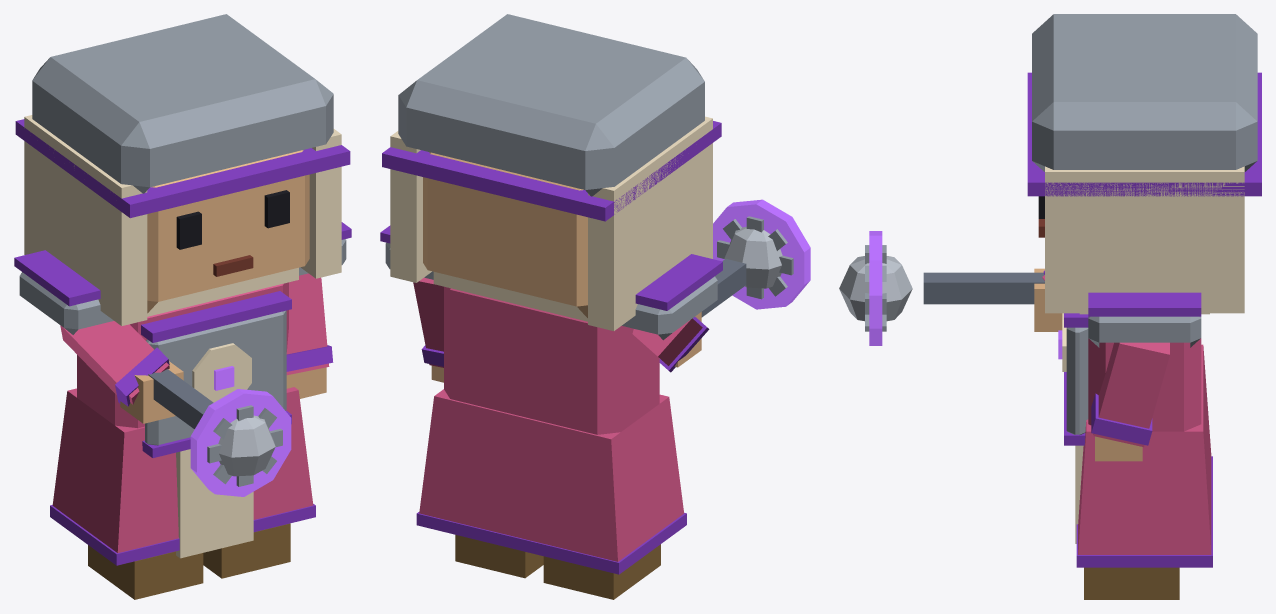
File: cleric_rare.glb
3 renders of one model, left to right at view 1: azimuth 30°, elevation 25°; view 2: azimuth 150°, elevation 25°; view 3: azimuth 270°, elevation 25°, orthographic. The views are drawn at different scales.
Visible parts, largest first — view 1: cleric_rare_mesh; view 2: cleric_rare_mesh; view 3: cleric_rare_mesh.
Part boxes in pixels (<box>): cleric_rare_mesh: <box>14,14,351,599</box>; cleric_rare_mesh: <box>380,14,810,599</box>; cleric_rare_mesh: <box>839,14,1261,599</box>.
Size of the model in its own units: 0.782 by 1.3 by 0.9902.
2 materials, 2 textured.
